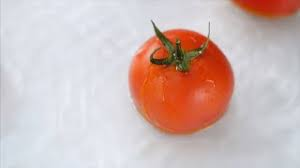tomato: (129, 29, 236, 135)
